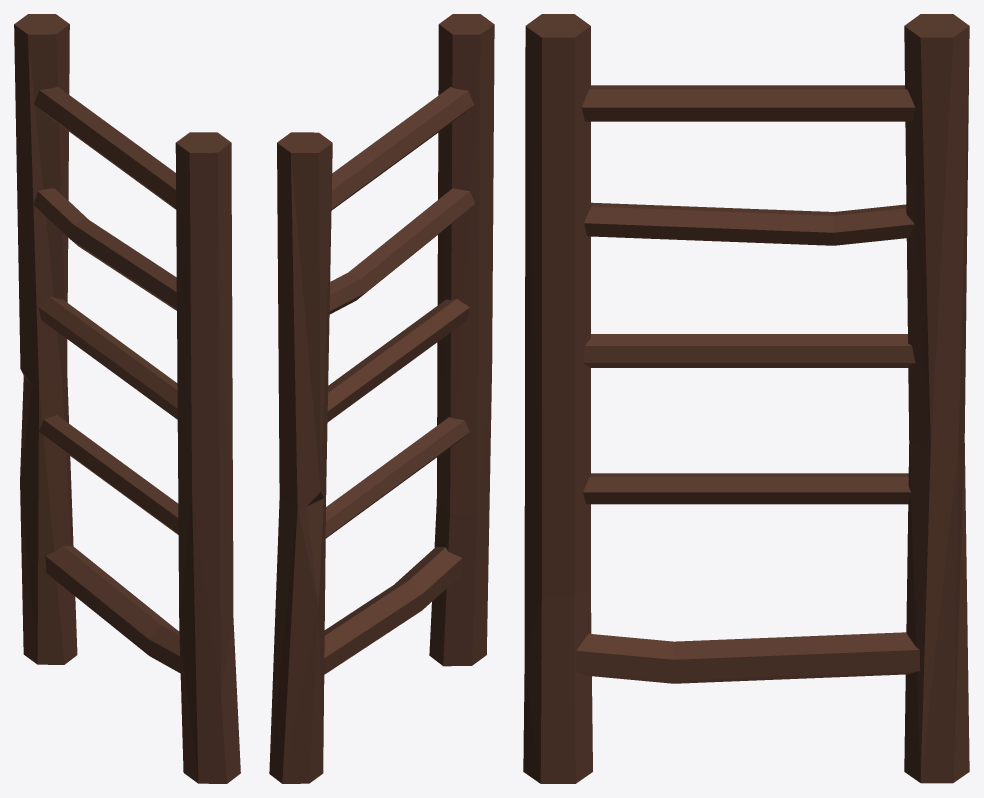
File: Ladder Asia.fbx
3 views of the same model, side by side, from view 1: azimuth 30°, elevation 25°; view 2: azimuth 150°, elevation 25°; view 3: azimuth 270°, elevation 25° (orthographic). The views are drawn at different scales.
Visible parts, largest first — view 1: Ladder; view 2: Ladder; view 3: Ladder.
Part boxes in pixels (x1,y1,x2,y2): Ladder: (14,14,240,783); Ladder: (269,14,494,783); Ladder: (523,14,969,783).
Bounding box in the file's own units: 0.1945 × 2.32 × 1.26.
